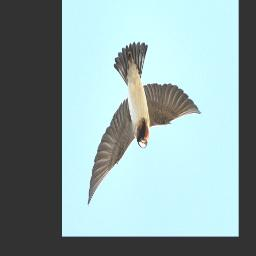Swallow: (86, 41, 201, 208)
